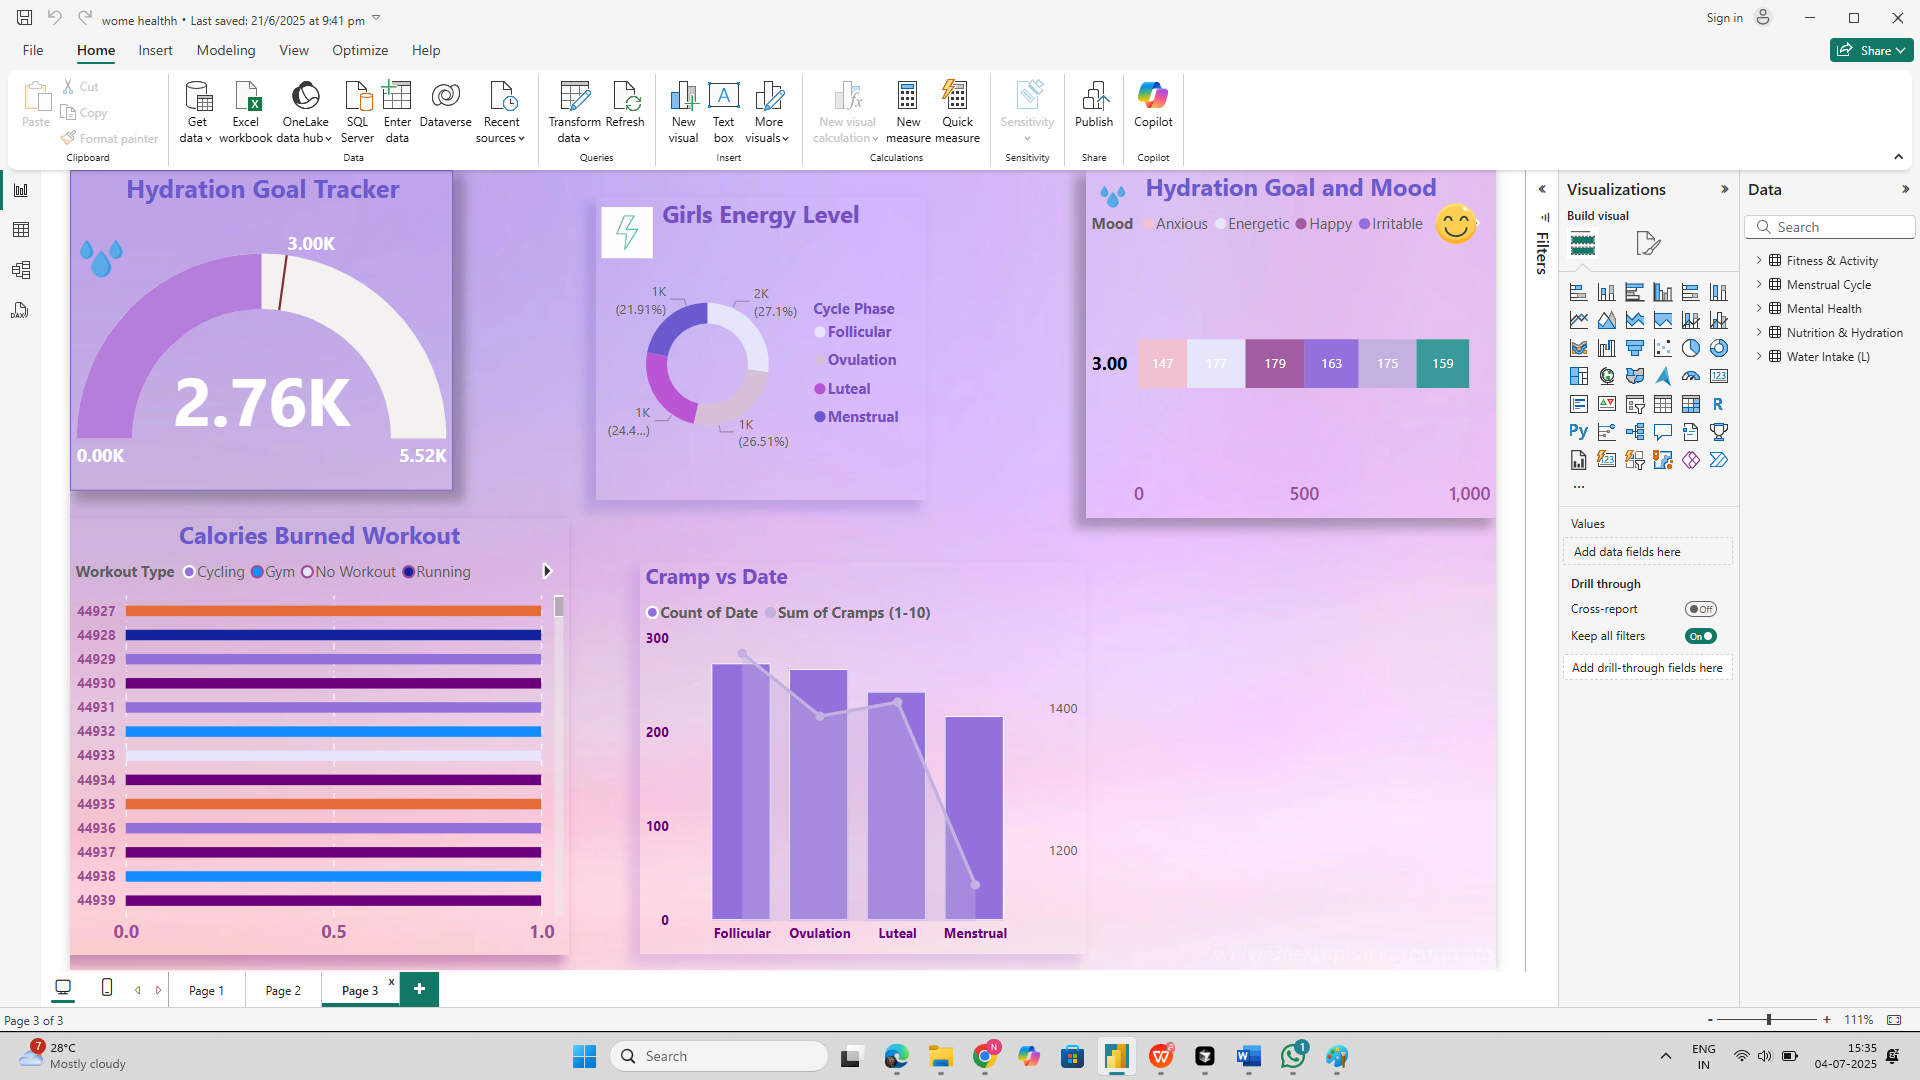

The dashboard page shown, as its layout file describes it:
{"tool":"powerbi","page":{"name":"Page 3","canvas":[1280,720],"ordinal":2},"visuals":[{"type":"barChart","title":" Hydration Goal and Mood","fields":{"Y":["CountNonNull(Menstrual Cycle.Date)"],"Category":["Menstrual Cycle.Hydration Goal"],"Series":["Menstrual Cycle.Mood"]},"box":[728,16,528,296],"z":0},{"type":"barChart","title":" Calories Burned Workout ","fields":{"Category":["Fitness & Activity.Date"],"Y":["CountNonNull(Fitness & Activity.Calories Burned)"],"Series":["Fitness & Activity.Workout Type"]},"box":[16,360,448,344],"z":1000},{"type":"donutChart","title":"Girls Energy Level","fields":{"Category":["Menstrual Cycle.Cycle Phase"],"Y":["Sum(Menstrual Cycle.Energy Level (1-10))"]},"box":[480,360,312,288],"z":2000},{"type":"gauge","title":"Hydration Goal Tracker ","fields":{"Y":["Sum(Nutrition & Hydration.Water Intake (L))"],"TargetValue":["Sum(Menstrual Cycle.Hydration Goal)"]},"box":[56,144,608,168],"z":3000},{"type":"lineClusteredColumnComboChart","title":"\"Menstrual Cycle vs. Cramps: Impact Across Phases\"","fields":{"Category":["Menstrual Cycle.Cycle Phase"],"Y":["CountNonNull(Menstrual Cycle.Date)"],"Y2":["Sum(Menstrual Cycle.Cramps (1-10))"]},"box":[824,360,440,344],"z":4000},{"type":"image","box":[56,192,64,48],"z":5000},{"type":"image","box":[792,24,48,32],"z":6000},{"type":"image","box":[1192,24,56,32],"z":7000},{"type":"image","box":[496,424,56,56],"z":8000},{"type":"shape","box":[0,0,688,112],"z":9000},{"type":"textbox","box":[80,16,456,80],"z":10000},{"type":"image","box":[560,0,112,88],"z":11000},{"type":"image","box":[1160,424,96,96],"z":12000}]}

Visuals, with their boxes on the page's 1280x720 design canvas (x1, y1, x2, y2). These are canvas units, not pixel positions in the 1920x1080 screenshot, which may show the page scaled, cropped or inside an application window:
" Hydration Goal and Mood" barChart: 728/16/1256/312
" Calories Burned Workout " barChart: 16/360/464/704
"Girls Energy Level" donutChart: 480/360/792/648
"Hydration Goal Tracker " gauge: 56/144/664/312
""Menstrual Cycle vs. Cramps: Impact Across Phases"" lineClusteredColumnComboChart: 824/360/1264/704
image: 56/192/120/240
image: 792/24/840/56
image: 1192/24/1248/56
image: 496/424/552/480
shape: 0/0/688/112
textbox: 80/16/536/96
image: 560/0/672/88
image: 1160/424/1256/520
